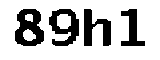1: (117, 6, 151, 54)
8: (14, 8, 45, 49)
9: (49, 5, 81, 52)
h: (82, 5, 117, 52)
